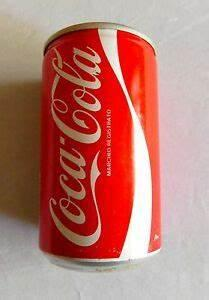metal: (39, 22, 162, 260)
